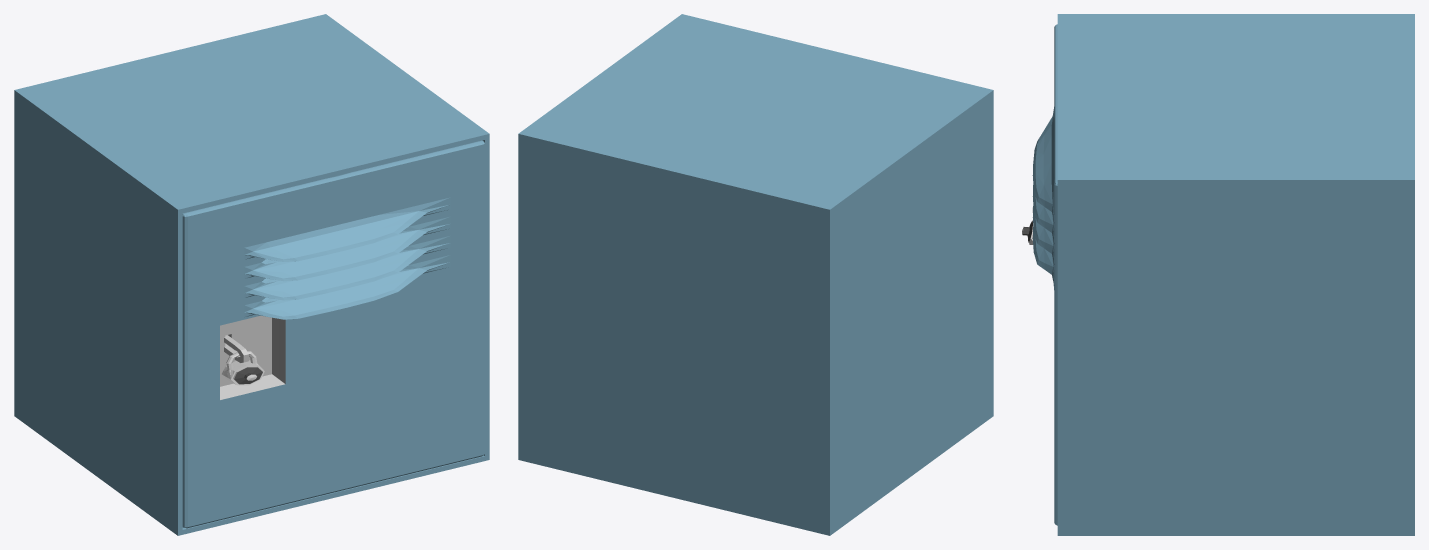
File: sh-bs0-locked-locker.glb
3 renders of one model, left to right at view 1: azimuth 30°, elevation 25°; view 2: azimuth 150°, elevation 25°; view 3: azimuth 270°, elevation 25°, orthographic. The views are drawn at different scales.
Visible parts, largest first — view 1: Cube; view 2: Cube; view 3: Cube.
Part boxes in pixels (box(x1,y1,x2,y2)): Cube: box(14, 14, 489, 535); Cube: box(518, 14, 993, 535); Cube: box(1022, 14, 1414, 535).
Size of the model in its own units: 1 by 1 by 1.
